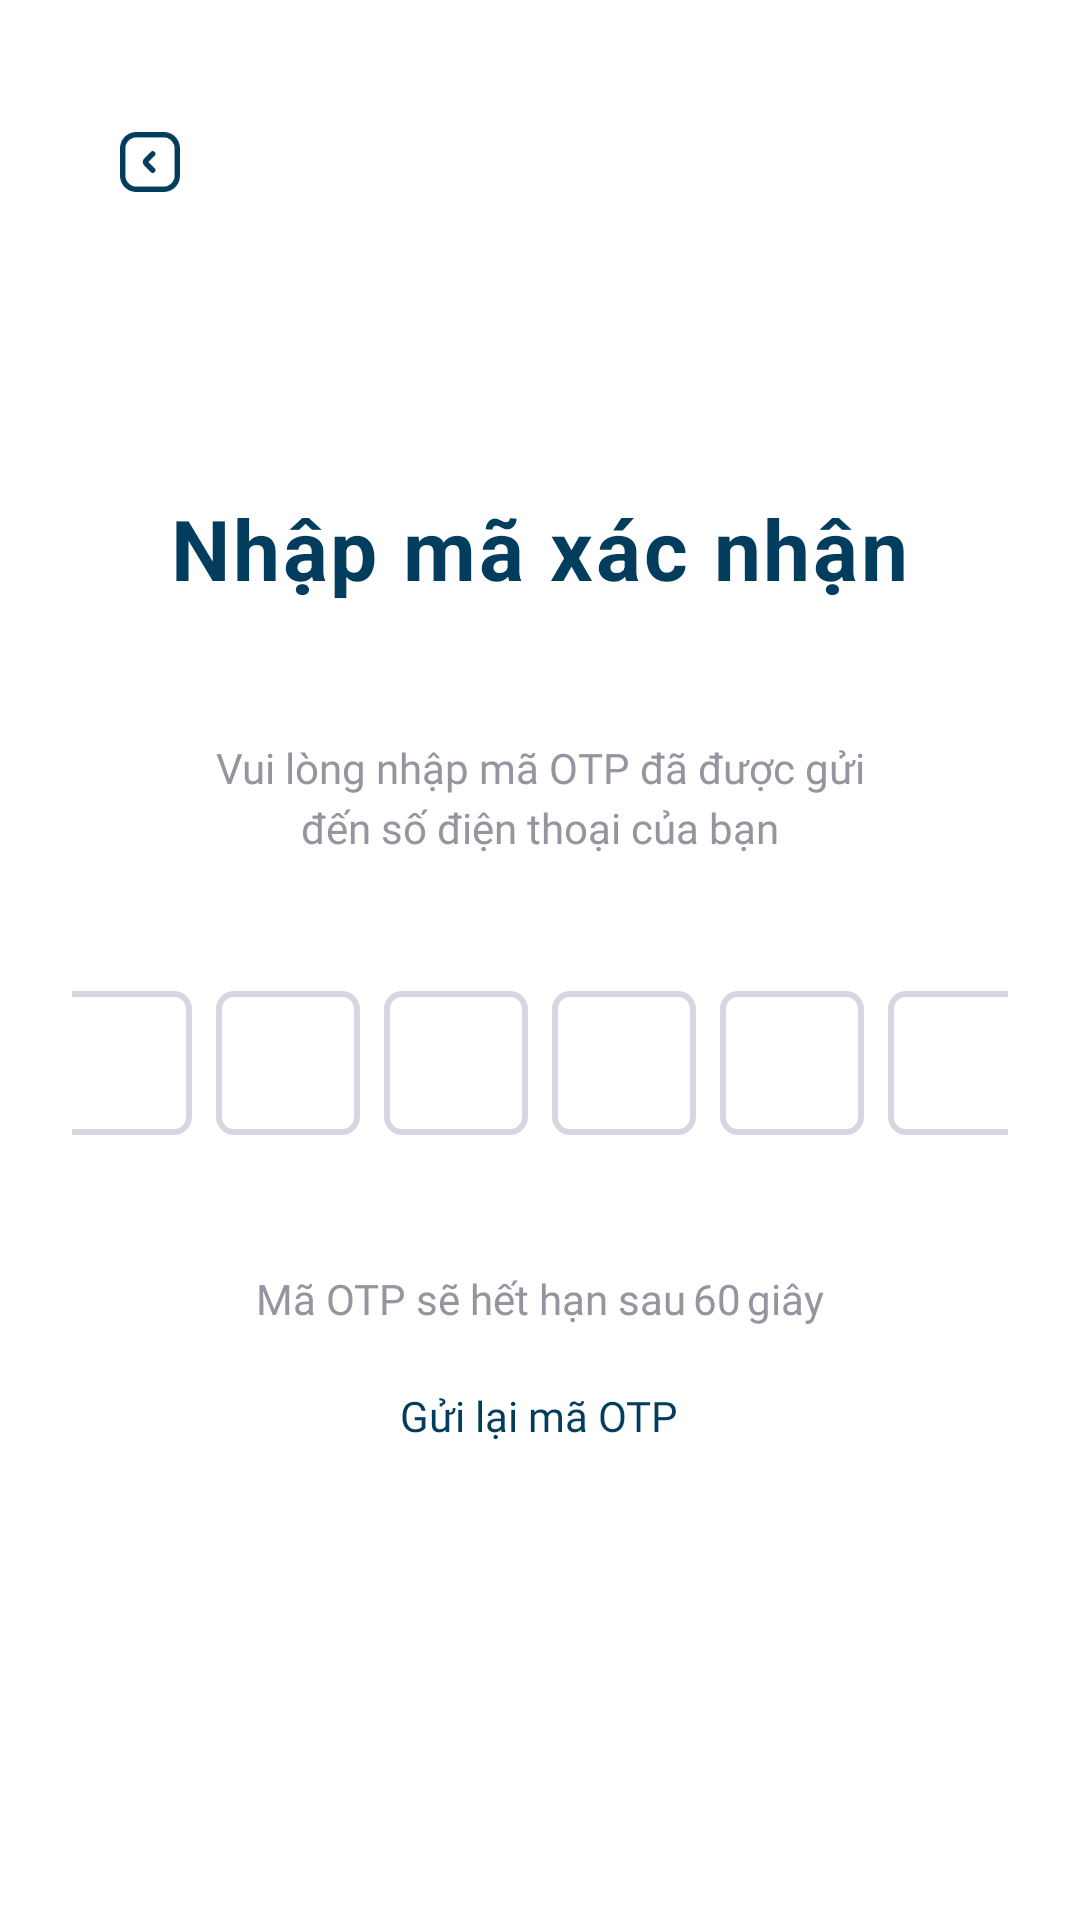

Point at icon controls on the screen. Image size 1080w x 1920h, points as (x,y).
back: (150,162)
